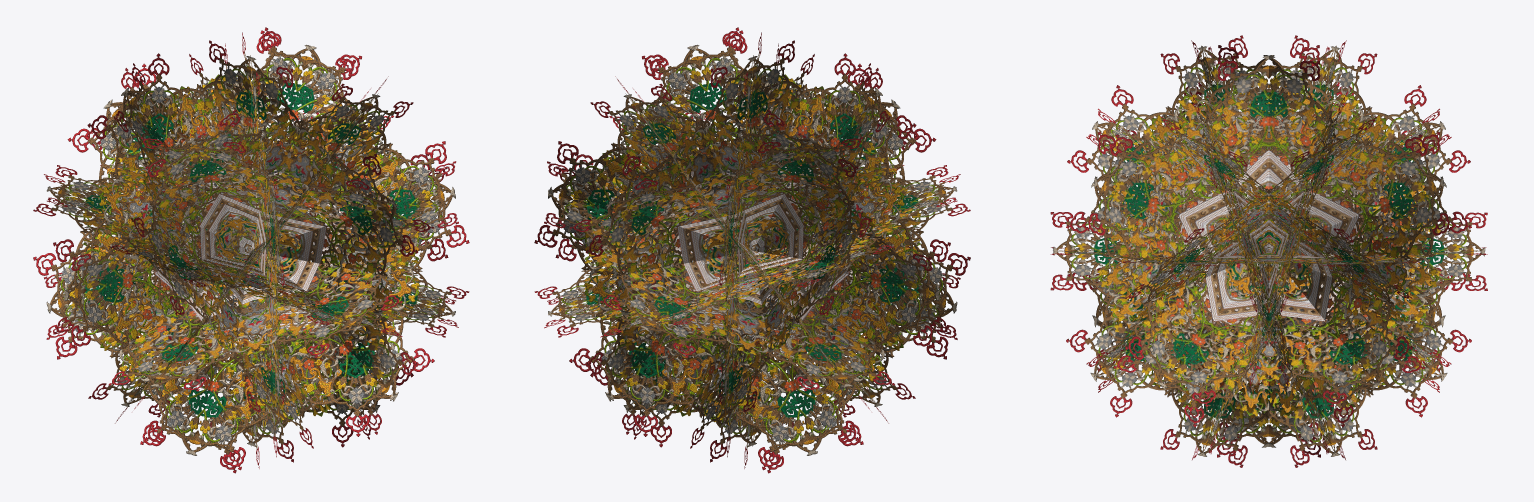
Rendered from GreatDodecahemicosahedron7.gltf.
3 views of the same model, side by side, from view 1: azimuth 30°, elevation 25°; view 2: azimuth 150°, elevation 25°; view 3: azimuth 270°, elevation 25° (orthographic).
Parts seen in each view (by area): view 1: GreatDodecahemicosahedron; view 2: GreatDodecahemicosahedron; view 3: GreatDodecahemicosahedron.
Part boxes in pixels (x1,y1,x2,y2): GreatDodecahemicosahedron: (33, 27, 469, 473); GreatDodecahemicosahedron: (534, 27, 970, 473); GreatDodecahemicosahedron: (1050, 35, 1487, 467).
Bounding box in the file's own units: 2 × 2 × 2.
Materials: 1 (1 with a texture image).
